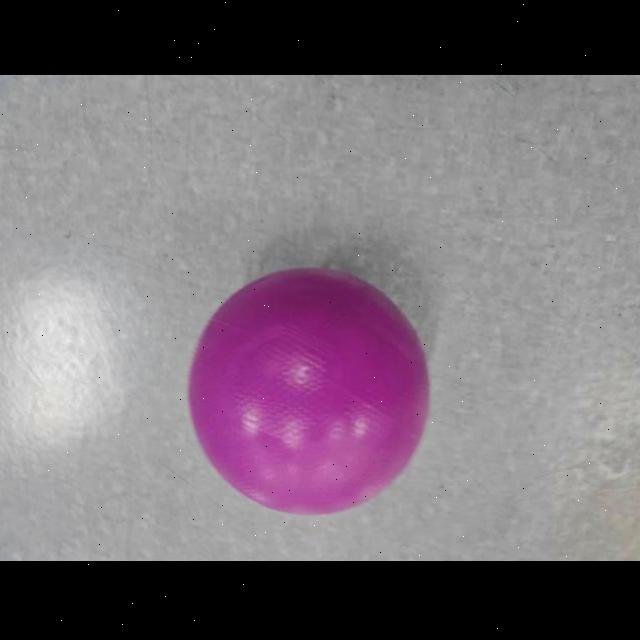P: (175, 251, 442, 524)
